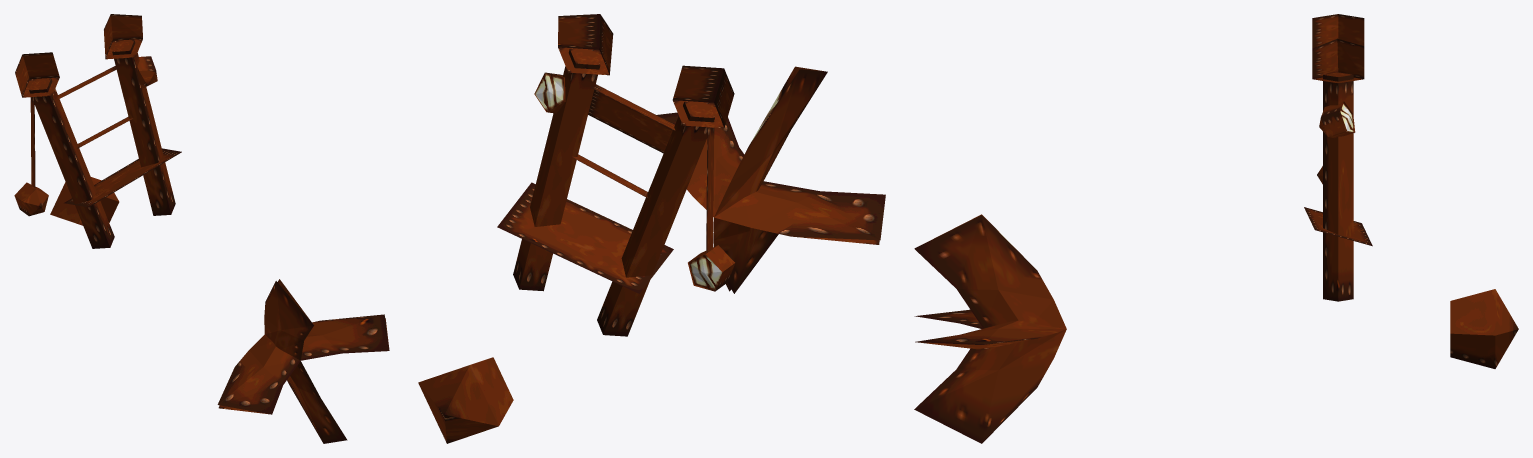
Rendered from ZeppelinHalleTeil_Wrack2Zubehör_842.glb.
The picture shows the model from 3 angles, left to right: view 1: azimuth 30°, elevation 25°; view 2: azimuth 150°, elevation 25°; view 3: azimuth 270°, elevation 25°; orthographic projection. The views are drawn at different scales.
Parts seen in each view (by area): view 1: pCylinderShape32, pCylinderShape27, pCylinderShape31, pCylinderShape29, pCylinderShape28, pPlaneShape20, pCylinderShape30, pSphereShape9, pSphereShape7, pSphereShape8, pPlaneShape21; view 2: pCylinderShape32, pCylinderShape27, pCylinderShape29, pCylinderShape31, pPlaneShape20, pSphereShape9, pCylinderShape28, pCylinderShape30, pPlaneShape14, pPlaneShape21, pPlaneShape17, pPlaneShape16 (+3 smaller); view 3: pCylinderShape31, pCylinderShape29, pSphereShape9, pCylinderShape32, pCylinderShape30, pCylinderShape28, pSphereShape8, pPlaneShape20.
Part boxes in pixels (x1=…): pCylinderShape32: x1=217, y1=314, x2=389, y2=414; pCylinderShape27: x1=29, y1=78, x2=114, y2=248; pCylinderShape31: x1=264, y1=279, x2=347, y2=443; pCylinderShape29: x1=112, y1=40, x2=175, y2=215; pCylinderShape28: x1=15, y1=52, x2=59, y2=97; pPlaneShape20: x1=64, y1=148, x2=181, y2=207; pCylinderShape30: x1=104, y1=14, x2=142, y2=59; pSphereShape9: x1=50, y1=177, x2=119, y2=225; pSphereShape7: x1=14, y1=182, x2=48, y2=216; pSphereShape8: x1=137, y1=56, x2=157, y2=87; pPlaneShape21: x1=30, y1=93, x2=35, y2=187; pCylinderShape32: x1=657, y1=112, x2=885, y2=244; pCylinderShape27: x1=597, y1=101, x2=714, y2=336; pCylinderShape29: x1=513, y1=48, x2=600, y2=291; pCylinderShape31: x1=713, y1=66, x2=827, y2=293; pPlaneShape20: x1=497, y1=182, x2=673, y2=293; pSphereShape9: x1=418, y1=357, x2=513, y2=443; pCylinderShape28: x1=672, y1=65, x2=734, y2=128; pCylinderShape30: x1=558, y1=14, x2=613, y2=75; pPlaneShape14: x1=588, y1=89, x2=672, y2=153; pPlaneShape21: x1=706, y1=121, x2=714, y2=252; pPlaneShape17: x1=535, y1=73, x2=564, y2=111; pPlaneShape16: x1=689, y1=254, x2=722, y2=290; pCylinderShape31: x1=914, y1=214, x2=1066, y2=443; pCylinderShape29: x1=1323, y1=72, x2=1353, y2=301; pSphereShape9: x1=1450, y1=289, x2=1518, y2=368; pCylinderShape32: x1=914, y1=309, x2=1066, y2=349; pCylinderShape30: x1=1312, y1=38, x2=1364, y2=83; pCylinderShape28: x1=1312, y1=14, x2=1364, y2=48; pSphereShape8: x1=1319, y1=101, x2=1355, y2=138; pPlaneShape20: x1=1304, y1=207, x2=1372, y2=246.
Bounding box in the file's own units: 1.44 × 2.05 × 3.02.
Materials: 16 (16 with a texture image).
